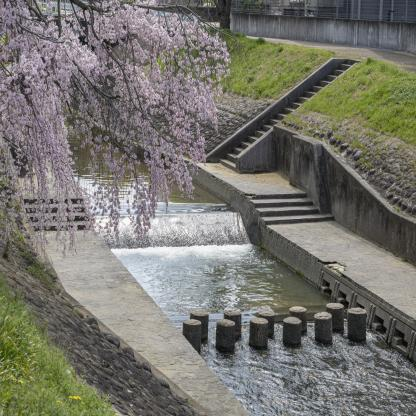ShidareZakura: (0, 0, 232, 273)
